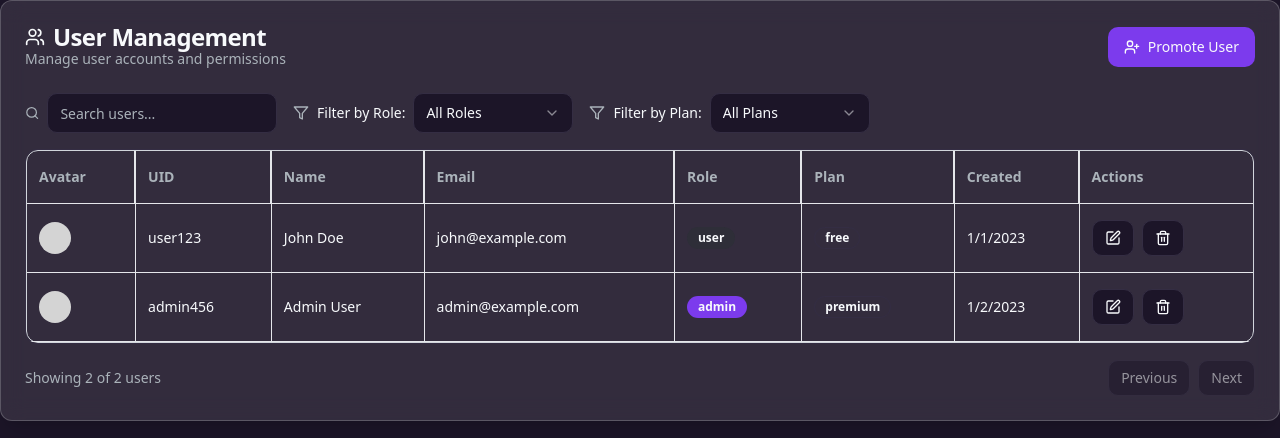
AdminUserManagement › filters users based on search term
Expected: the text "John Doe" is shown, [272, 204, 425, 273]
Type "Admin" into the field with placeholder "Search users..." at [162, 113], box [47, 93, 277, 133]
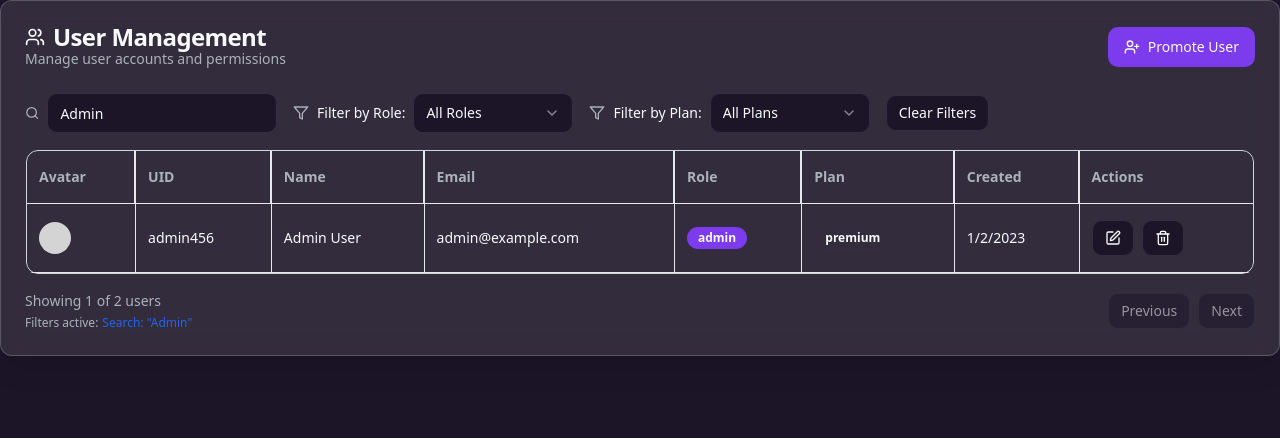
Expected: the text "Admin User" is shown, [272, 204, 425, 273]
Expected: the text "John Doe" is gone
